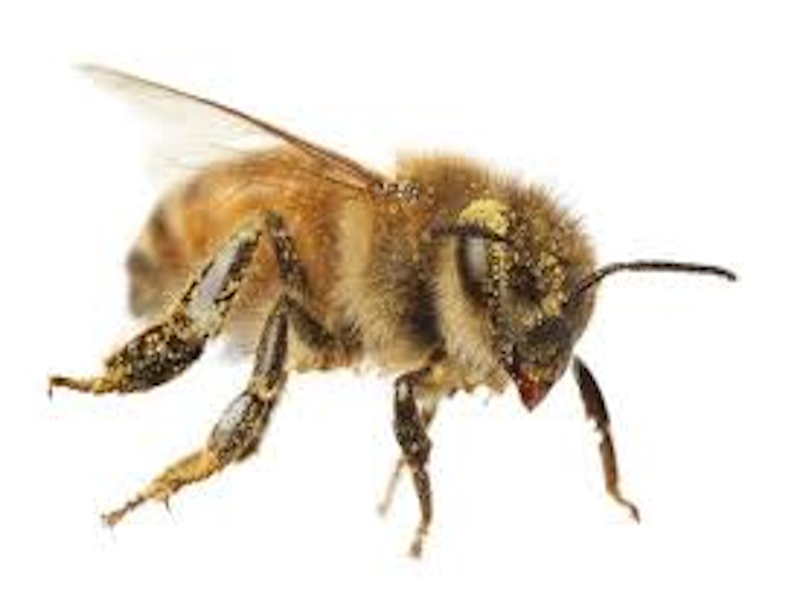abeja: (14, 52, 755, 569)
